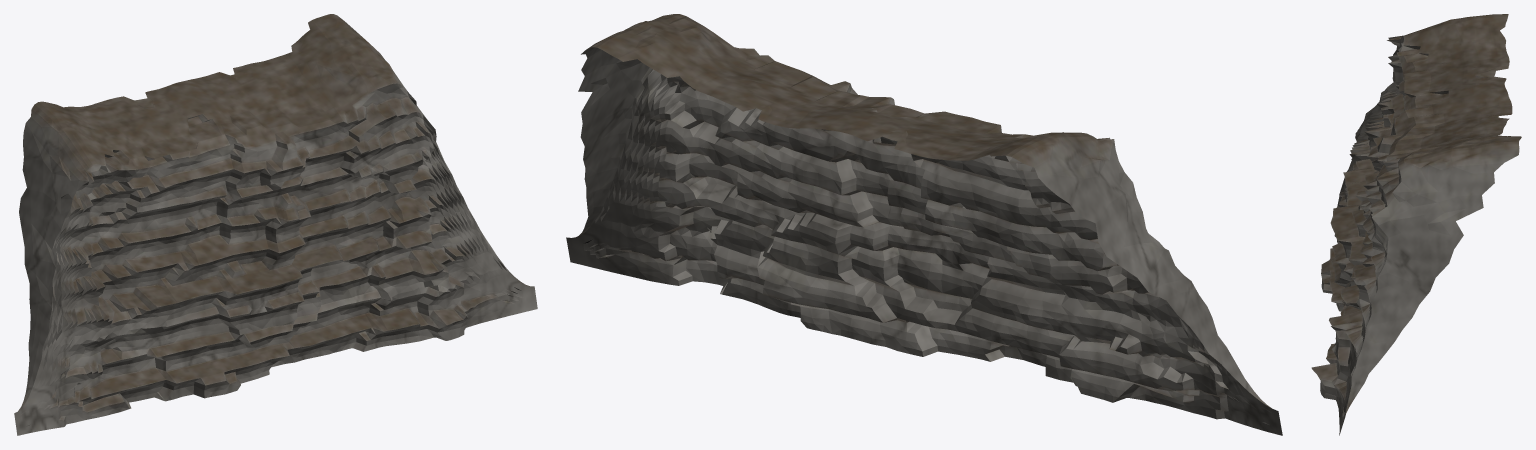
The model's file is SM_rock_face_03.fbx.
The picture shows the model from 3 angles, left to right: view 1: azimuth 30°, elevation 25°; view 2: azimuth 150°, elevation 25°; view 3: azimuth 270°, elevation 25°; orthographic projection. The views are drawn at different scales.
Visible parts, largest first — view 1: SM_rock_face_03; view 2: SM_rock_face_03; view 3: SM_rock_face_03.
Boxes of the visible parts, box(x1,y1,x2,y2) form: SM_rock_face_03: box(14, 14, 537, 435); SM_rock_face_03: box(566, 14, 1282, 435); SM_rock_face_03: box(1311, 14, 1521, 435).
Size of the model in its own units: 8 by 3.73 by 2.94.
